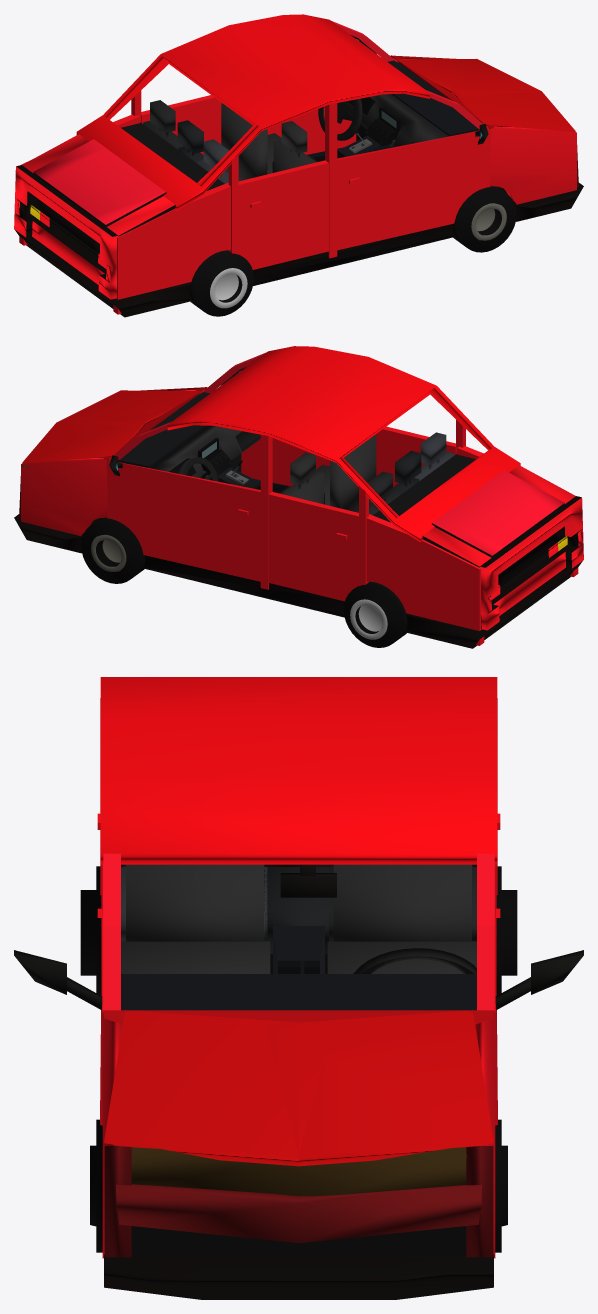
The model's file is rac_grafika_model_armatura2.obj.
3 views of the same model, one above another, from view 1: azimuth 30°, elevation 25°; view 2: azimuth 150°, elevation 25°; view 3: azimuth 270°, elevation 25° (orthographic). The views are drawn at different scales.
Visible parts, largest first — view 1: Streha, Car_floor, Door, Back_door, back_sides, Pokrov, Hauba-sides, seats, Wheel, Wheel_back, Cube.002, Cube.001 (+10 smaller); view 2: Streha, Car_floor, Door, Back_door, back_sides, Pokrov, Hauba-sides, seats, Wheel, Wheel_back, Cube.002, Cube.001 (+10 smaller); view 3: Streha, Pokrov, seats, Hauba.001, Car_floor, Cube.001, Lučke_del, Hauba, door_fame2, Stranska_hauba, Wheel, Hauba-sides (+8 smaller).
Boxes of the visible parts, x1=… form: Streha: x1=76, y1=14, x2=429, y2=210; Car_floor: x1=14, y1=134, x2=583, y2=317; Door: x1=267, y1=55, x2=491, y2=250; Back_door: x1=131, y1=90, x2=359, y2=269; back_sides: x1=19, y1=114, x2=230, y2=314; Pokrov: x1=396, y1=58, x2=575, y2=132; Hauba-sides: x1=392, y1=55, x2=576, y2=204; seats: x1=221, y1=103, x2=316, y2=180; Wheel: x1=190, y1=250, x2=253, y2=316; Wheel_back: x1=452, y1=186, x2=516, y2=252; Cube.002: x1=337, y1=94, x2=449, y2=147; Cube.001: x1=356, y1=60, x2=479, y2=140; Streha: x1=167, y1=346, x2=520, y2=542; Car_floor: x1=14, y1=465, x2=583, y2=648; Door: x1=106, y1=387, x2=329, y2=581; Back_door: x1=237, y1=420, x2=465, y2=601; back_sides: x1=366, y1=446, x2=578, y2=645; Pokrov: x1=22, y1=390, x2=201, y2=463; Hauba-sides: x1=21, y1=387, x2=205, y2=535; seats: x1=281, y1=435, x2=376, y2=512; Wheel: x1=343, y1=581, x2=407, y2=647; Wheel_back: x1=81, y1=517, x2=144, y2=583; Cube.002: x1=148, y1=425, x2=260, y2=478; Cube.001: x1=118, y1=392, x2=241, y2=472; Streha: x1=100, y1=677, x2=497, y2=864; Pokrov: x1=104, y1=1010, x2=493, y2=1166; seats: x1=121, y1=864, x2=476, y2=973; Hauba.001: x1=116, y1=1184, x2=481, y2=1243; Car_floor: x1=104, y1=954, x2=493, y2=1299; Cube.001: x1=121, y1=974, x2=476, y2=1010; Lučke_del: x1=131, y1=1147, x2=466, y2=1196; Hauba: x1=131, y1=1226, x2=466, y2=1256; door_fame2: x1=103, y1=853, x2=494, y2=1010; Stranska_hauba: x1=104, y1=1145, x2=493, y2=1257; Wheel: x1=80, y1=866, x2=517, y2=995; Hauba-sides: x1=102, y1=1012, x2=495, y2=1258.
Bounding box in the file's own units: 10.59 × 3.96 × 5.43.
